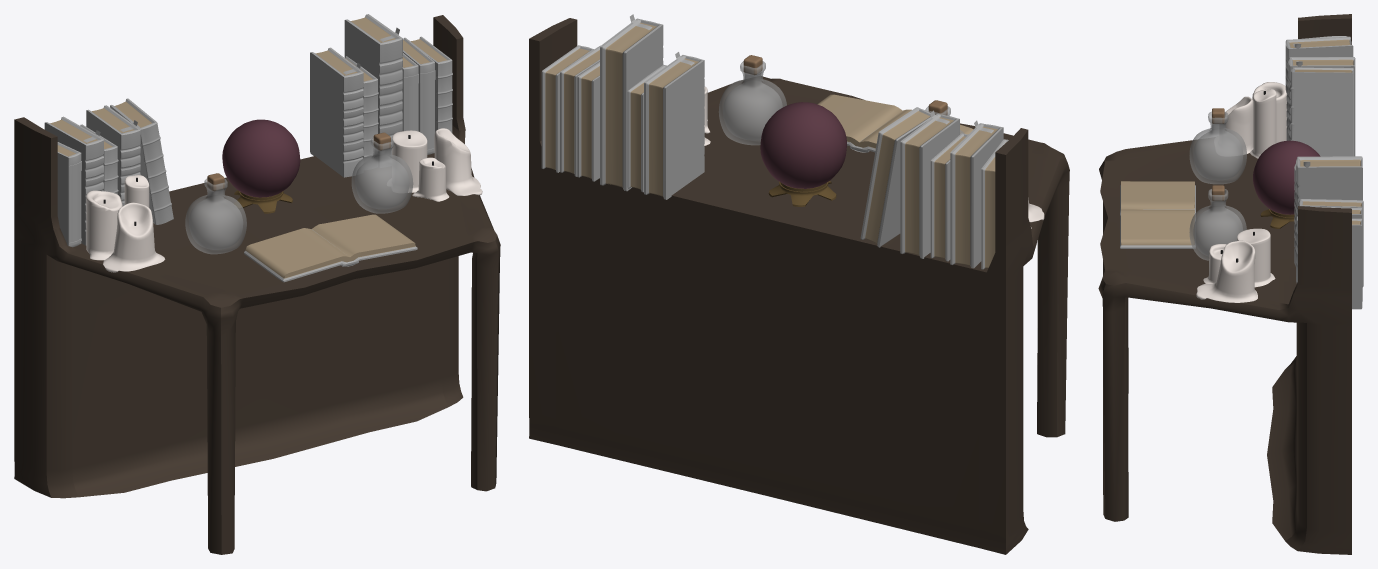
The model's file is Arcane_Level_Objects 1.fbx.
The picture shows the model from 3 angles, left to right: view 1: azimuth 30°, elevation 25°; view 2: azimuth 150°, elevation 25°; view 3: azimuth 270°, elevation 25°; orthographic projection. The views are drawn at different scales.
Visible parts, largest first — view 1: Arcane_Table:Arcane_Table, Spellbook:Spellbook, book_6, Crystal, Candle_3 (×2), book_5, Candle_1 (×2), Potion_Bottle:Bottle, Bottle, Book_4, Book_3:book_3, book_3 (+8 smaller); view 2: Arcane_Table:Arcane_Table, book_6, book_5, Crystal, book_3, Book_3:book_3, Book_4, Bottle, Spellbook:Spellbook, book_4, Book_5, Book_1:Book_1 (+4 smaller); view 3: Arcane_Table:Arcane_Table, Book_4, Spellbook:Spellbook, Candle_3 (×2), book_5, Potion_Bottle:Bottle, Crystal, Bottle, Candle_1 (×2), Candle_2 (×2), Book_3:book_3, book_3 (+3 smaller).
Boxes of the visible parts, bbox=[...] form: Arcane_Table:Arcane_Table: bbox=[14, 15, 500, 554]; Spellbook:Spellbook: bbox=[244, 214, 417, 282]; book_6: bbox=[310, 47, 363, 177]; Crystal: bbox=[222, 119, 300, 197]; Candle_3 (×2): bbox=[103, 128, 482, 272]; book_5: bbox=[344, 14, 402, 157]; Candle_1 (×2): bbox=[86, 130, 427, 260]; Potion_Bottle:Bottle: bbox=[185, 178, 246, 254]; Bottle: bbox=[351, 138, 413, 213]; Book_4: bbox=[110, 98, 173, 224]; Book_3:book_3: bbox=[44, 116, 103, 245]; book_3: bbox=[86, 105, 140, 205]; Arcane_Table:Arcane_Table: bbox=[529, 18, 1069, 554]; book_6: bbox=[644, 52, 704, 199]; book_5: bbox=[600, 14, 663, 191]; Crystal: bbox=[760, 102, 846, 188]; book_3: bbox=[900, 110, 959, 258]; Book_3:book_3: bbox=[950, 120, 1003, 268]; Book_4: bbox=[860, 107, 931, 247]; Bottle: bbox=[718, 61, 786, 145]; Spellbook:Spellbook: bbox=[817, 94, 973, 152]; book_4: bbox=[577, 62, 599, 181]; Book_5: bbox=[541, 45, 593, 172]; Book_1:Book_1: bbox=[930, 133, 968, 261]; Arcane_Table:Arcane_Table: bbox=[1098, 14, 1351, 554]; Book_4: bbox=[1290, 67, 1353, 156]; Spellbook:Spellbook: bbox=[1120, 181, 1195, 248]; Candle_3 (×2): bbox=[1196, 96, 1257, 302]; book_5: bbox=[1296, 156, 1362, 283]; Potion_Bottle:Bottle: bbox=[1189, 111, 1246, 184]; Crystal: bbox=[1253, 140, 1320, 214]; Bottle: bbox=[1189, 189, 1246, 260]; Candle_1 (×2): bbox=[1237, 82, 1286, 287]; Candle_2 (×2): bbox=[1203, 89, 1276, 283]; Book_3:book_3: bbox=[1285, 36, 1353, 140]; book_3: bbox=[1288, 57, 1355, 156].
Bounding box in the file's own units: 45.56 × 38.58 × 25.65.
